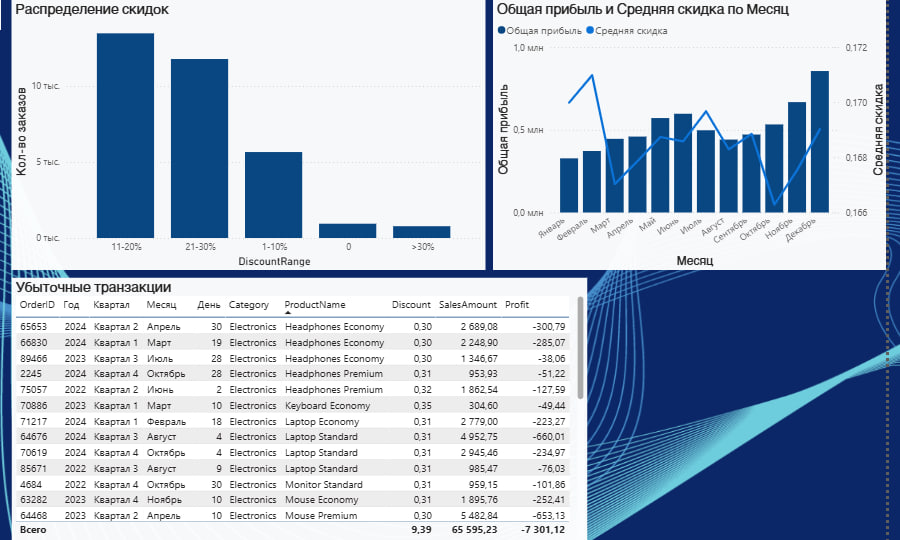

What the dashboard file says about the page in this screenshot:
{"tool":"powerbi","page":{"name":"Анализ скидок и аномалий","canvas":[1280,720],"ordinal":1},"visuals":[{"type":"columnChart","title":"Распределение скидок","fields":{"Y":["Меры.Кол-во заказов"],"Category":["Sales.DiscountRange"]},"box":[114,0,632,360],"z":0},{"type":"tableEx","title":"Убыточные транзакции","fields":{"Values":["Sales.OrderID","Calendar.Date.Изменение.Иерархия дат.Год","Calendar.Date.Изменение.Иерархия дат.Квартал","Calendar.Date.Изменение.Иерархия дат.Месяц","Calendar.Date.Изменение.Иерархия дат.День","Products.Category","Products.ProductName","Sum(Sales.Discount)","Sum(Sales.SalesAmount)","Sum(Sales.Profit)"]},"box":[114,370,768,350],"z":1},{"type":"actionButton","box":[0,0,100,40],"z":2},{"type":"lineClusteredColumnComboChart","fields":{"Category":["Calendar.Date.Изменение.Иерархия дат.Месяц"],"Y":["Меры.Общая прибыль"],"Y2":["Меры.Средняя скидка"]},"box":[755,0,525,360],"z":3}]}

Visuals, with their boxes on the page's 1280x720 design canvas (x1, y1, x2, y2). These are canvas units, not pixel positions in the 900x540 screenshot, which may show the page scaled, cropped or inside an application window:
"Распределение скидок" columnChart: (114, 0, 746, 360)
"Убыточные транзакции" tableEx: (114, 370, 882, 720)
actionButton: (0, 0, 100, 40)
lineClusteredColumnComboChart - Calendar.Date.Изменение.Иерархия дат.Месяц x Меры.Общая прибыль: (755, 0, 1280, 360)
